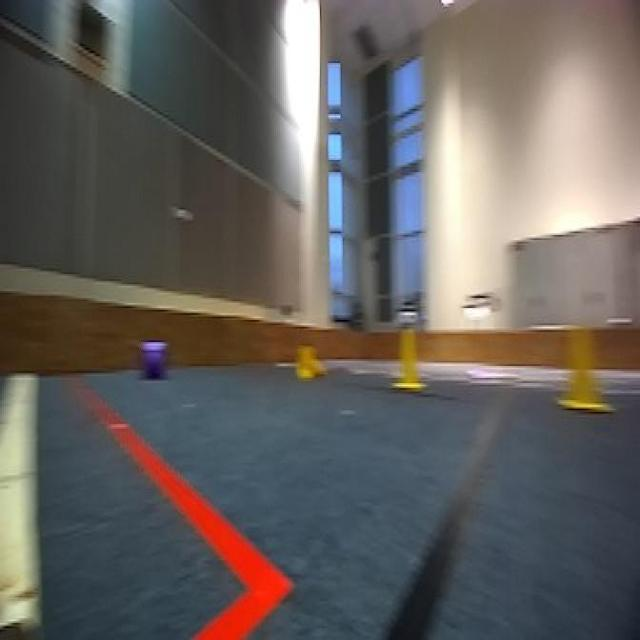frc_cone: (556, 327, 612, 410), (392, 318, 426, 393), (295, 342, 330, 381)
frc_cube: (142, 337, 168, 378)
